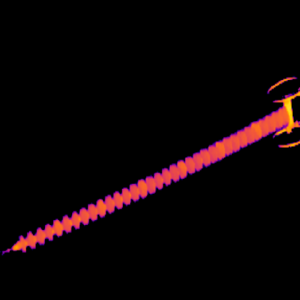insulator: (12, 104, 290, 252)
